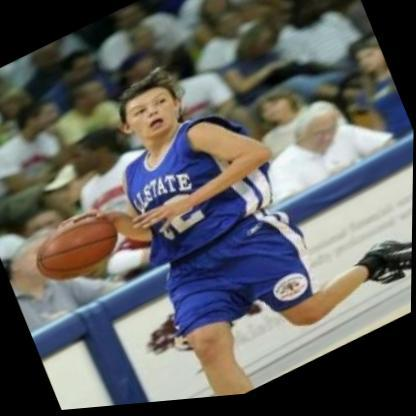basketball: (22, 201, 132, 300)
